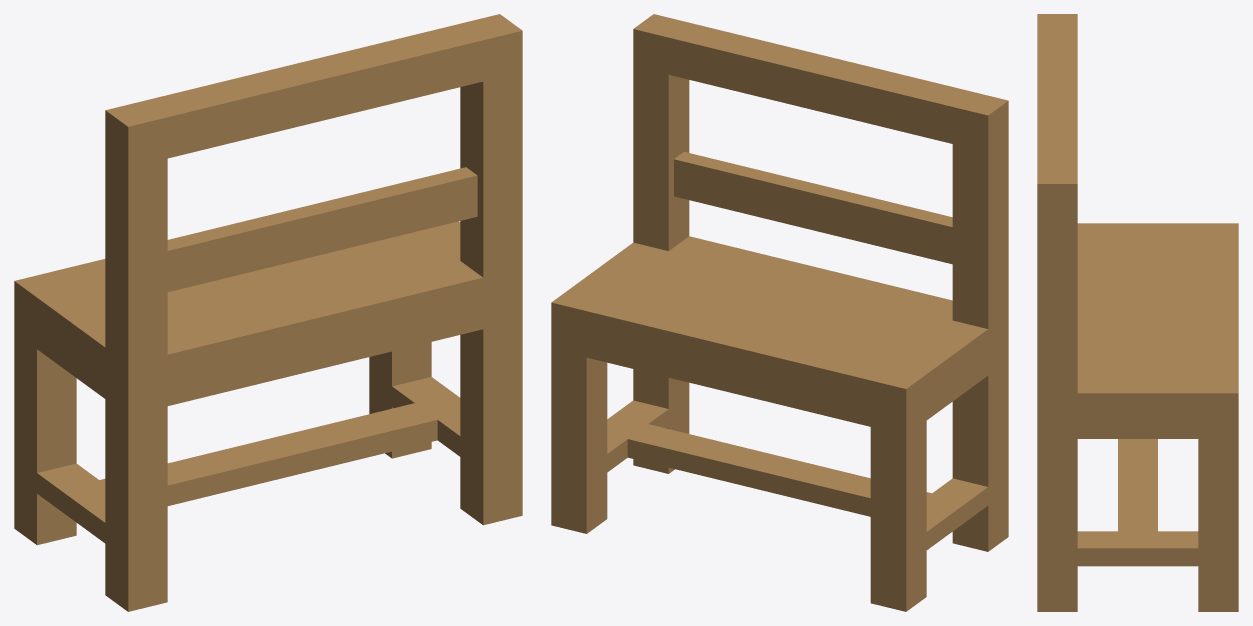
The model's file is bench.glb.
3 renders of one model, left to right at view 1: azimuth 30°, elevation 25°; view 2: azimuth 150°, elevation 25°; view 3: azimuth 270°, elevation 25°, orthographic. The views are drawn at different scales.
Parts seen in each view (by area): view 1: bench; view 2: bench; view 3: bench.
Boxes of the visible parts, x1,y1,x2,y2 form: bench: (14, 14, 522, 611); bench: (551, 14, 1008, 611); bench: (1037, 14, 1238, 611).
Bounding box in the file's own units: 0.8 × 0.94 × 0.4.
